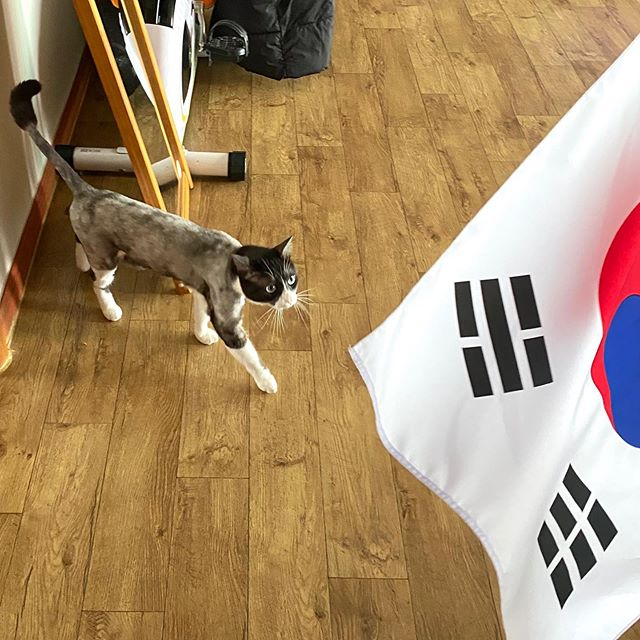cat: (221, 234, 317, 330)
